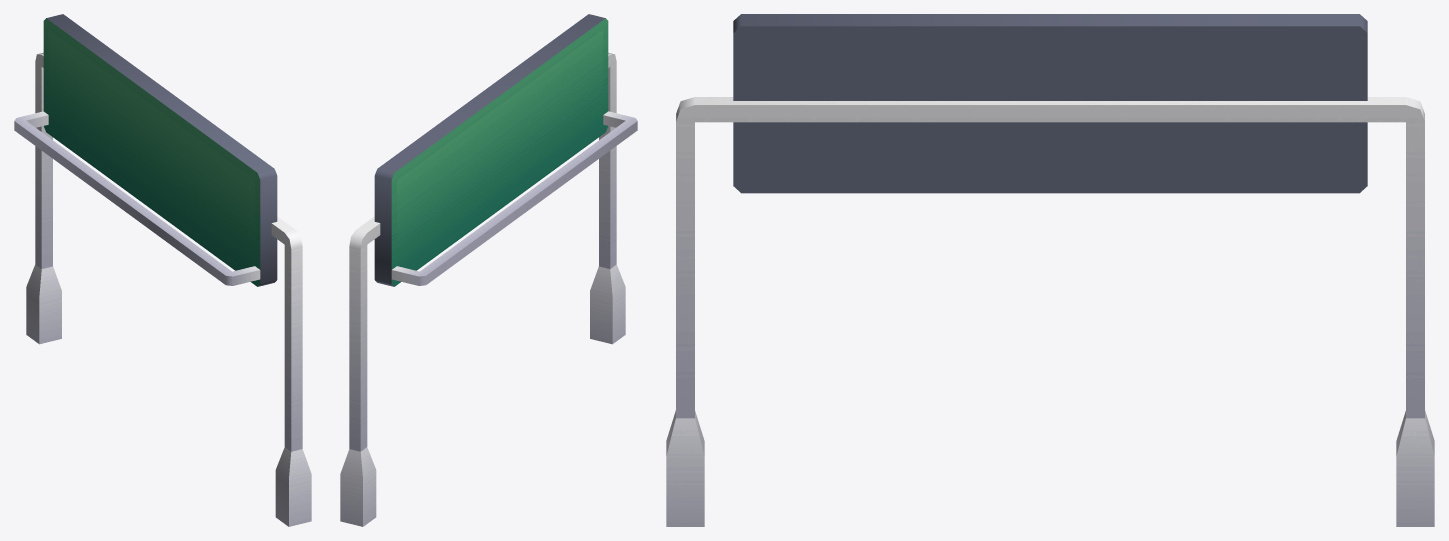
The model's file is func-start.glb.
3 views of the same model, side by side, from view 1: azimuth 30°, elevation 25°; view 2: azimuth 150°, elevation 25°; view 3: azimuth 270°, elevation 25° (orthographic). The views are drawn at different scales.
Parts seen in each view (by area): view 1: start; view 2: start; view 3: start.
Boxes of the visible parts, box(x1,y1,x2,y2) form: start: box(14, 14, 311, 526); start: box(340, 14, 637, 526); start: box(666, 14, 1434, 526).
Bounding box in the file's own units: 0.1324 × 0.7074 × 1.
Materials: 1 (1 with a texture image).
